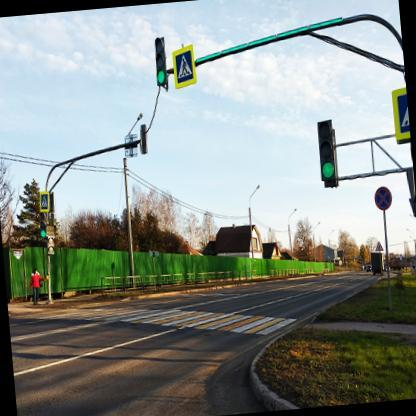obstructed_road_sign: (392, 88, 410, 140)
road_sign: (173, 44, 196, 88), (374, 187, 392, 210), (40, 191, 50, 213)
traffic light: (318, 119, 339, 187), (155, 36, 167, 86), (39, 213, 47, 239)
